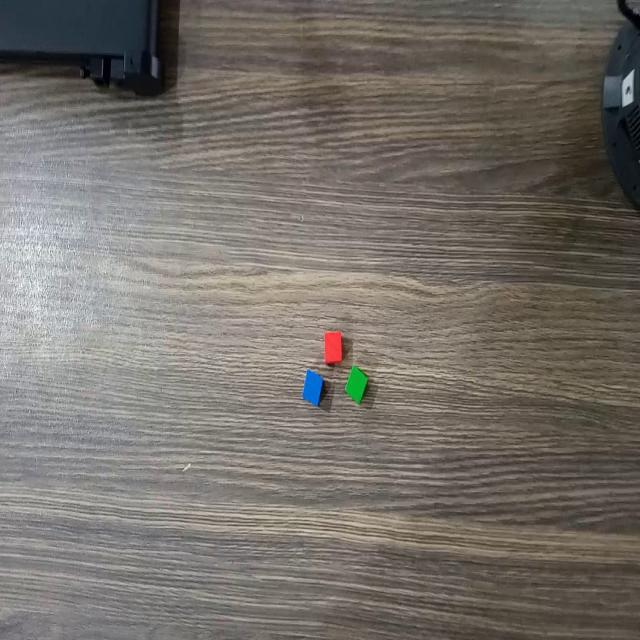cube: (344, 360, 372, 405), (322, 328, 344, 369)
